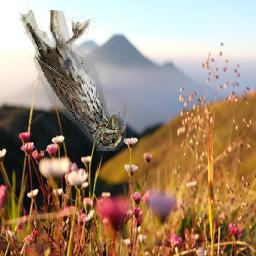Sparrow: (20, 11, 127, 152)
